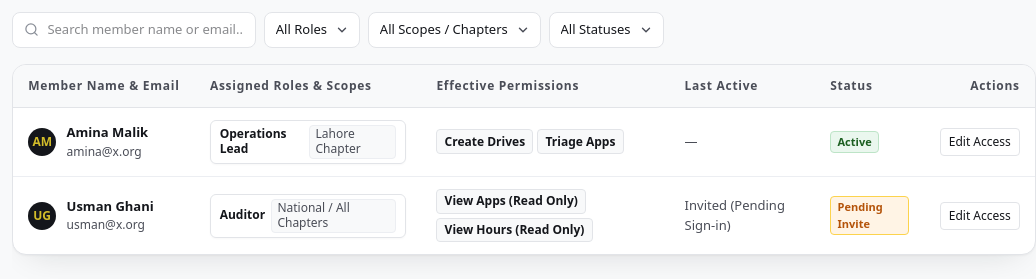
it: MembersTable › filters by status
Click the dropdown named "Status filter". click: (607, 30)
box: [549,12,664,48]
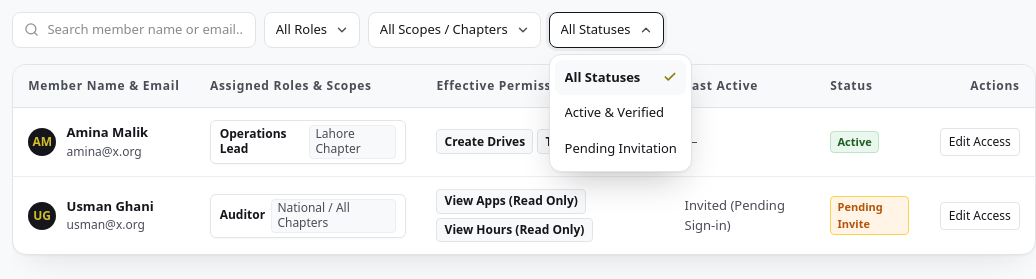
Click the option "Pending Invitation". click: (621, 148)
box: [555,131,686,166]
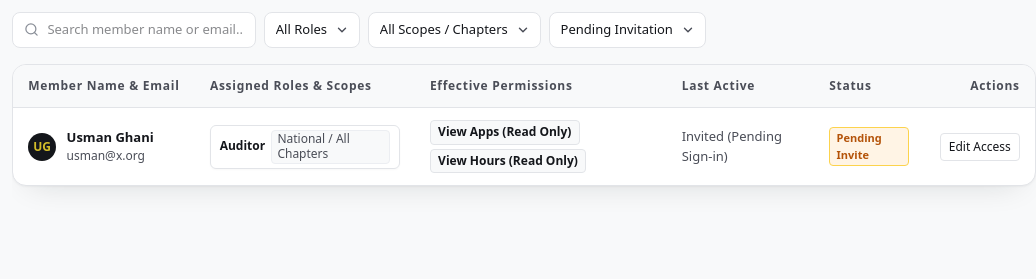
Check: the text "Usman Ghani" is shown, box [67,128,154,147]
Check: the text "Amina Malik" is gone
